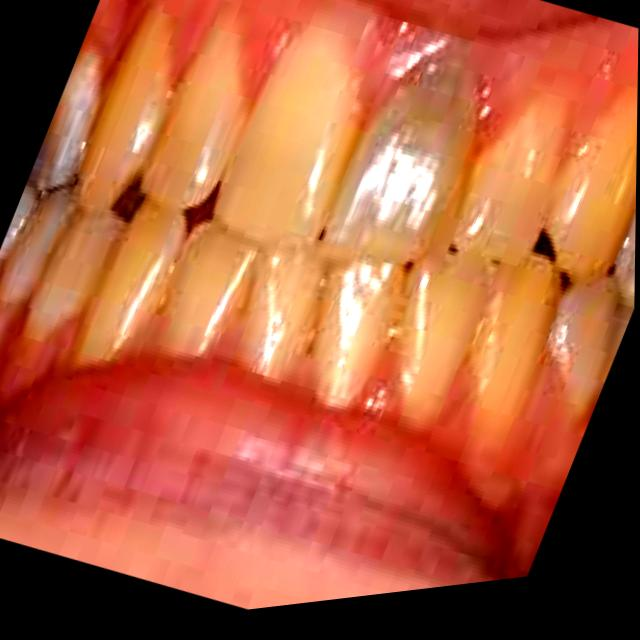tooth-discoloration: (324, 44, 477, 261)
